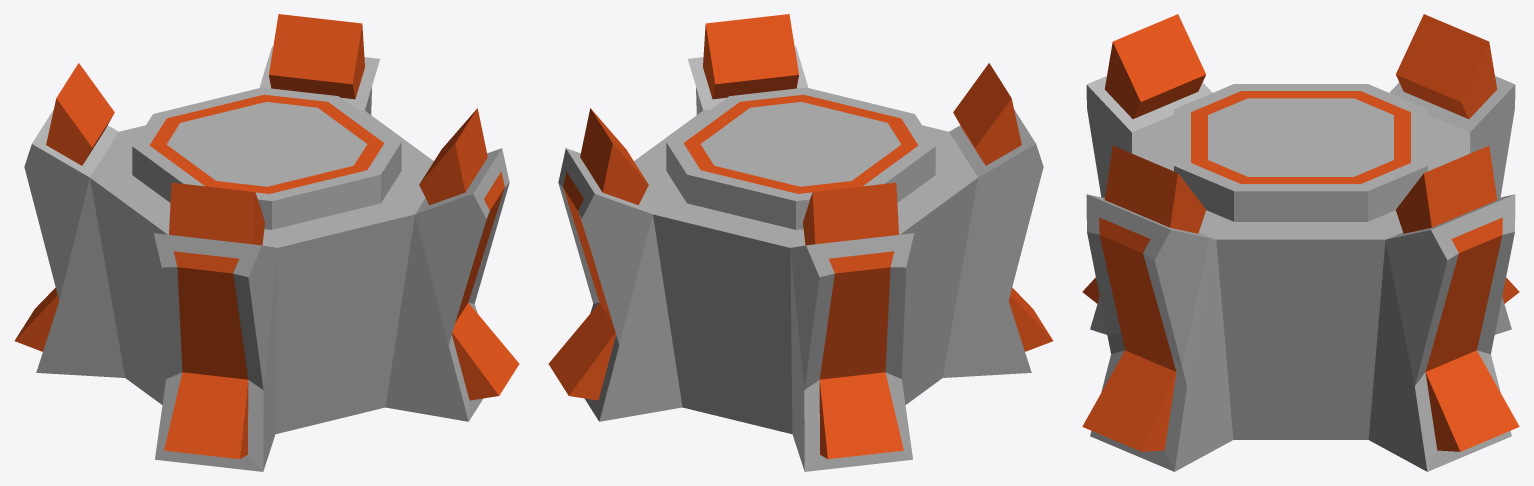
Rendered from Wizzard Tower lev 4.2.fbx.
The picture shows the model from 3 angles, left to right: view 1: azimuth 30°, elevation 25°; view 2: azimuth 150°, elevation 25°; view 3: azimuth 270°, elevation 25°; orthographic projection. The views are drawn at different scales.
Visible parts, largest first — view 1: Torre Wizzard.034; view 2: Torre Wizzard.034; view 3: Torre Wizzard.034.
Boxes of the visible parts, x1,y1,x2,y2 form: Torre Wizzard.034: (14,14,519,471); Torre Wizzard.034: (548,14,1053,471); Torre Wizzard.034: (1082,14,1519,471).
Bounding box in the file's own units: 12.93 × 9.44 × 12.93.
